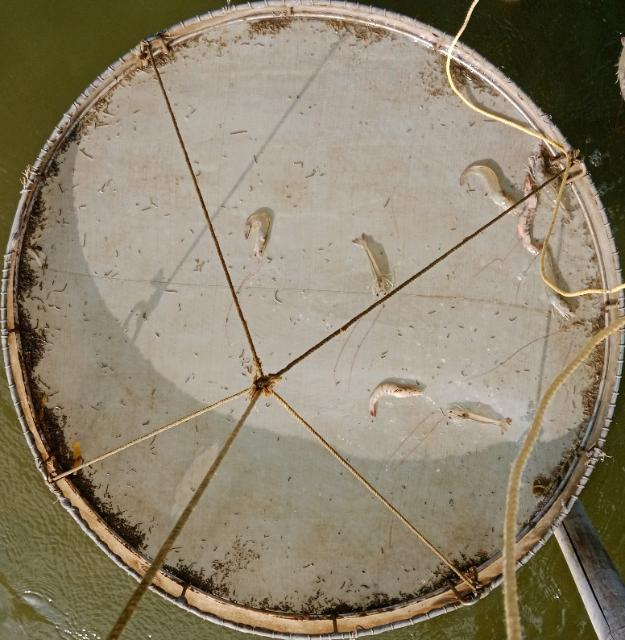shrimp: (528, 145, 572, 224), (538, 243, 577, 319), (352, 232, 393, 294), (460, 165, 516, 210), (443, 404, 514, 436), (369, 382, 426, 417), (517, 174, 540, 255), (245, 212, 271, 258)
